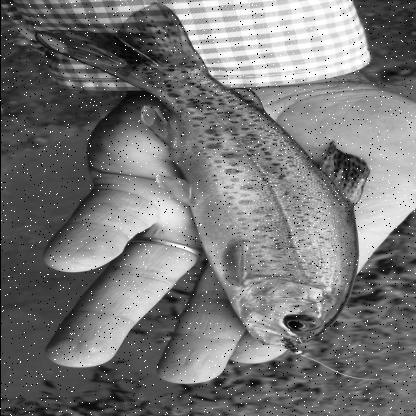fish: (39, 0, 357, 350)
